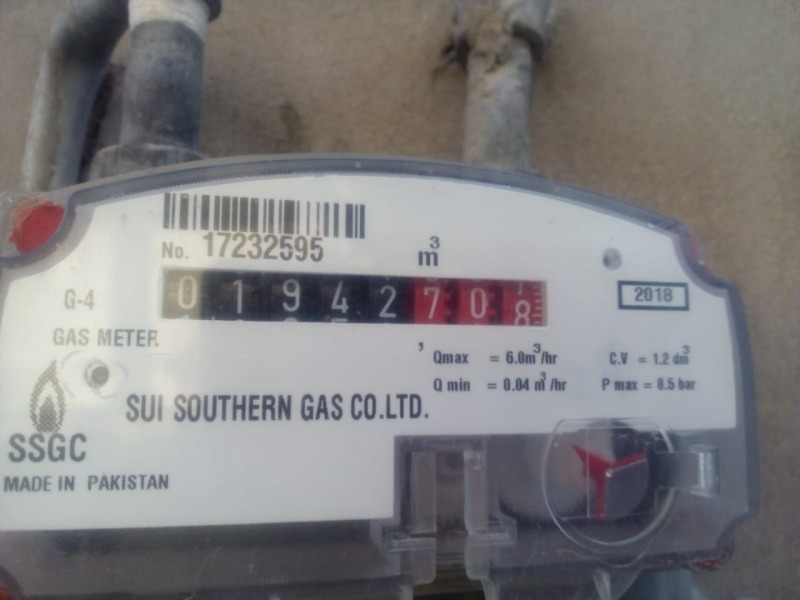ssgc: (156, 264, 547, 332)
